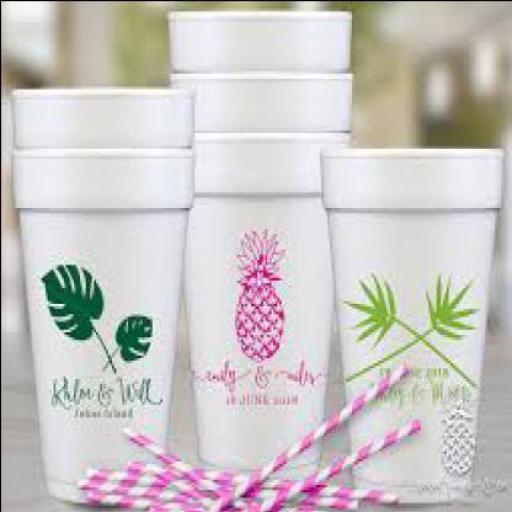paper: (165, 8, 353, 466), (8, 86, 190, 499), (316, 145, 500, 499), (10, 142, 183, 499), (183, 132, 351, 468)
